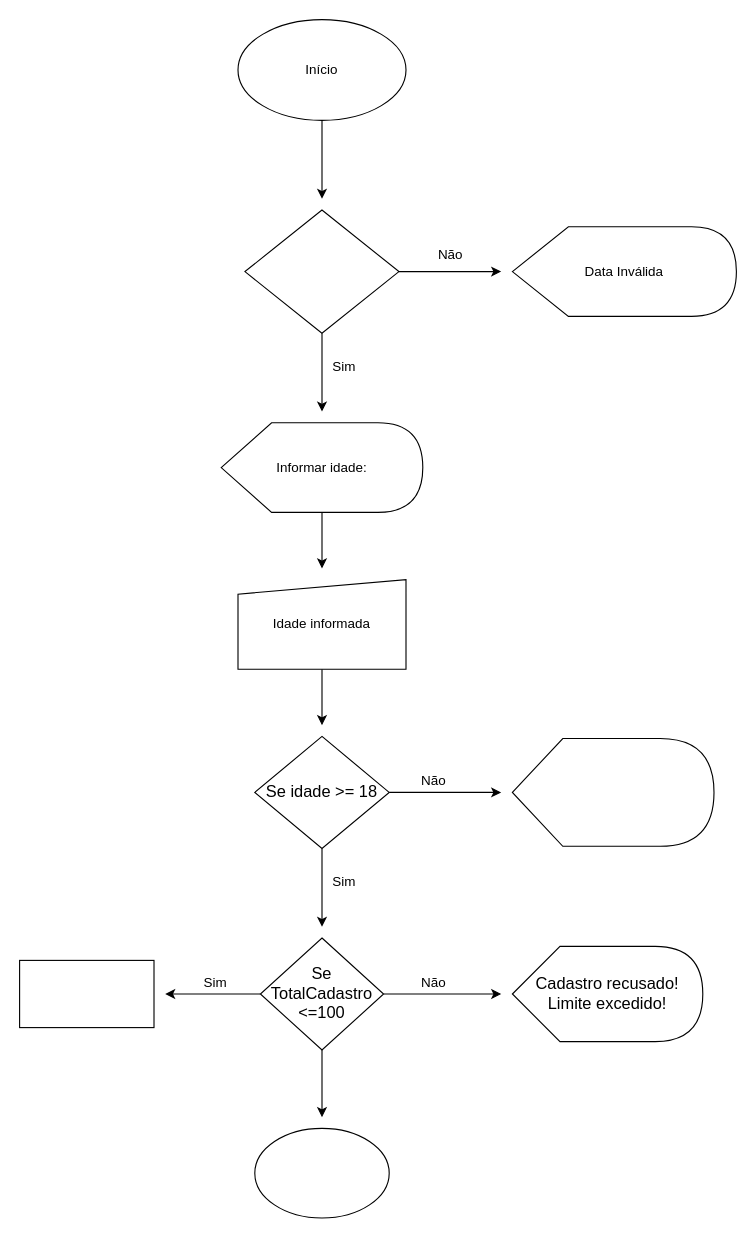
This 756x1238 diagram has some shape labels left out. Here are the shapes that lost their labels. From the top down, the centre of each, then its label:
At [321,271]: "Se a data >= hoje".
At [612,791]: "Acesso negado! Você precisa ter mais de 18 anos!".
At [86,993]: "Permitir cadastro".
At [321,1172]: "Fim.".
